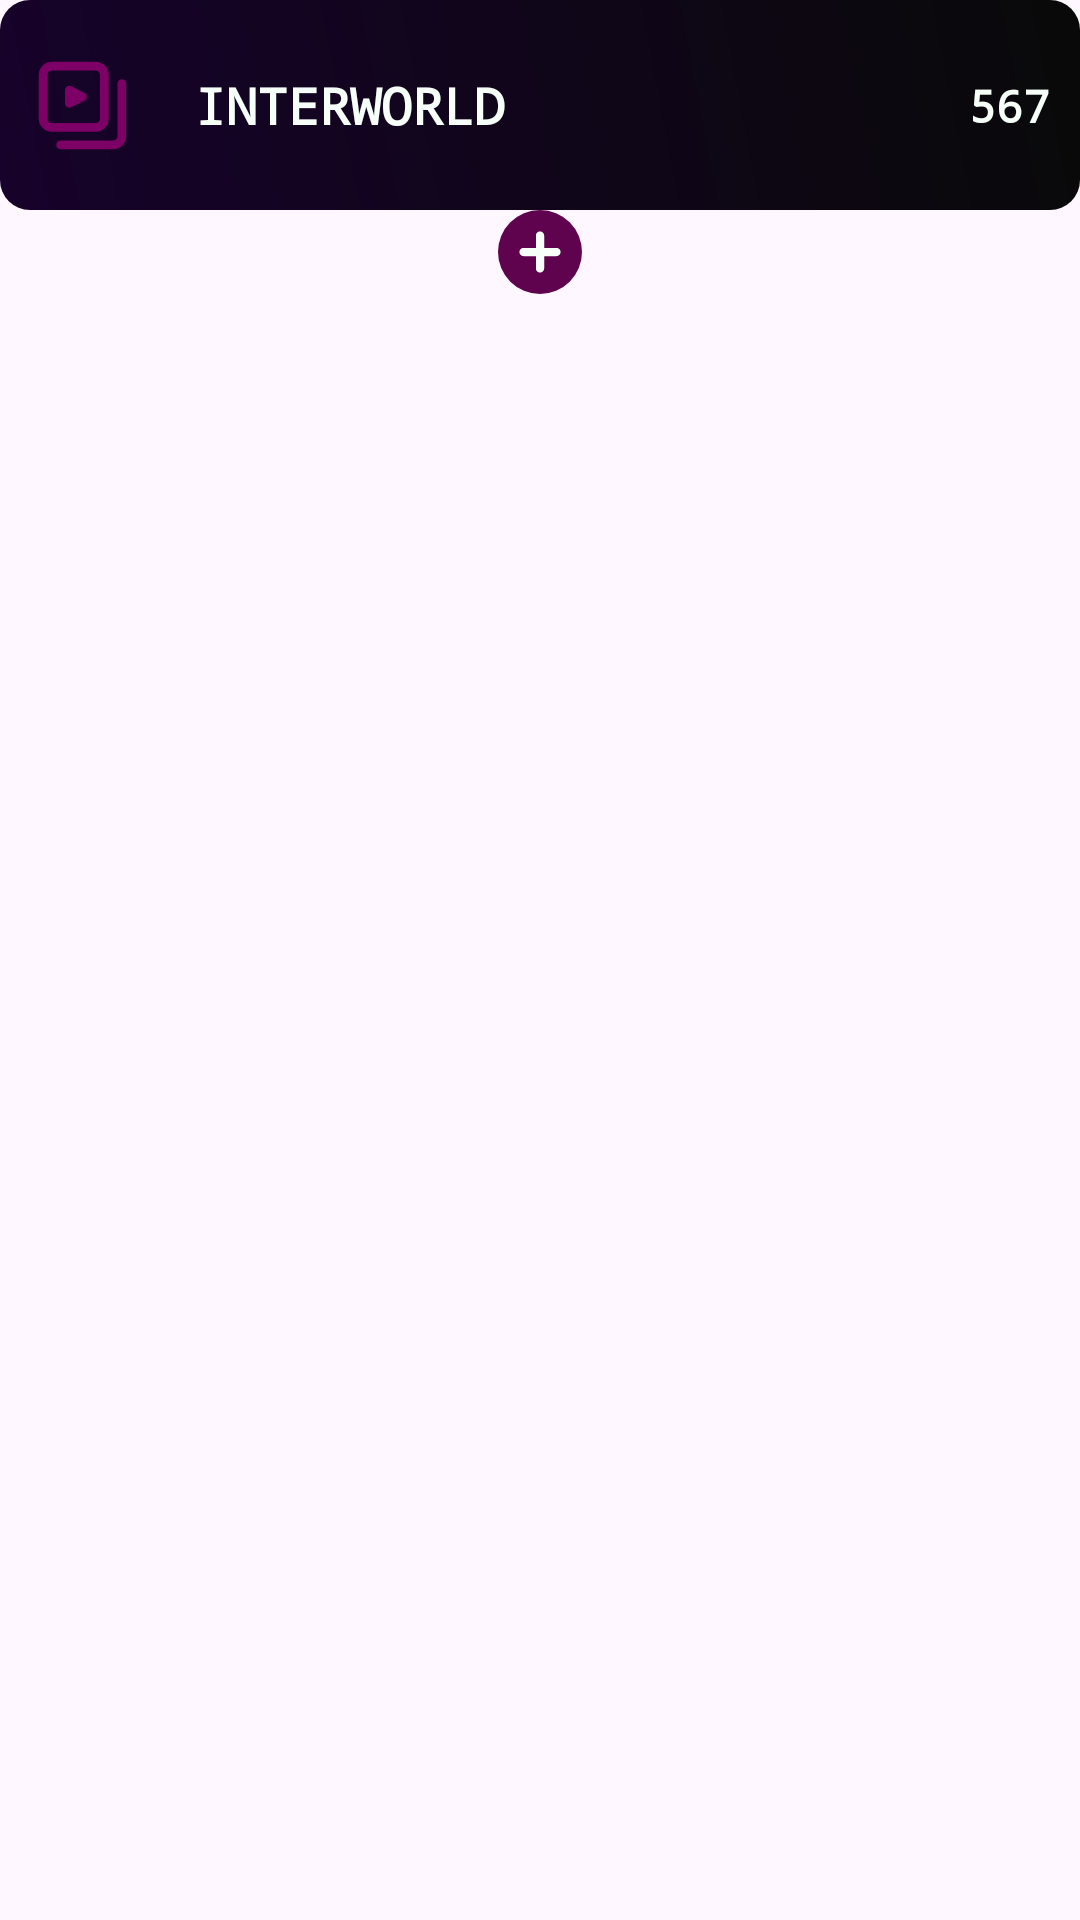

Named icons in this screenshot (1080*1920) and their centers, (x,y):
playlist: (82,105)
plus: (540,252)
